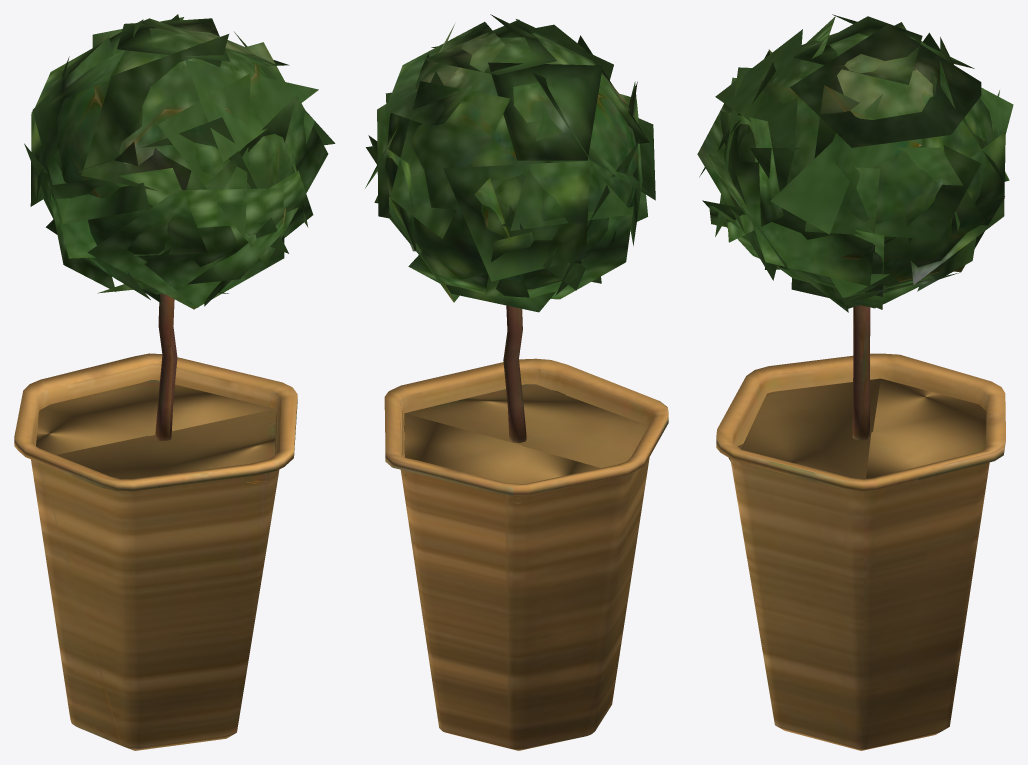
Rendered from topiary_planter.glb.
3 views of the same model, side by side, from view 1: azimuth 30°, elevation 25°; view 2: azimuth 150°, elevation 25°; view 3: azimuth 270°, elevation 25° (orthographic). The views are drawn at different scales.
Size of the model in its own units: 0.7117 by 1.7 by 0.7004.
Materials: 1 (1 with a texture image).
